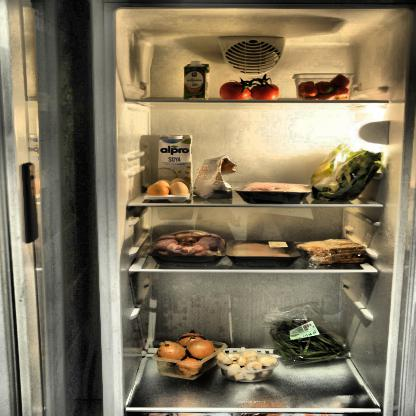chicken: (152, 229, 230, 265), (230, 242, 294, 262)
eggs: (146, 177, 188, 199)
green_beans: (268, 316, 352, 366)
ground_beef: (233, 182, 310, 203)
heavy_cream: (183, 61, 208, 100)
milk: (159, 134, 193, 190)
mushrooms: (216, 349, 279, 381)
onion: (156, 330, 214, 378)
spinach: (310, 143, 384, 202)
strawberries: (298, 74, 352, 102)
tomato: (218, 74, 282, 101)
